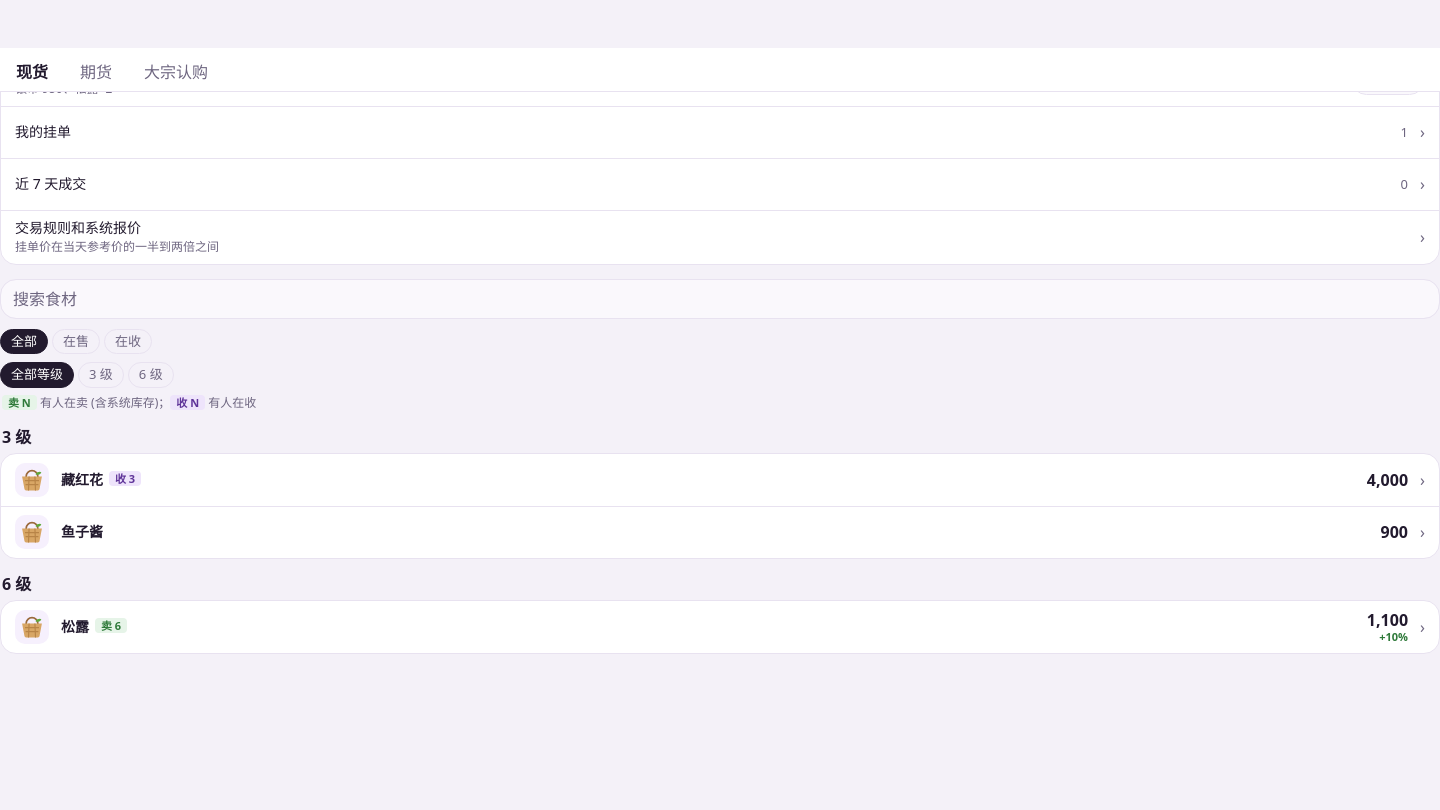
it: ExchangeView（156-1 设计 §8） › 交易所说明里写清楚系统报价怎么算（问题记录 250）
The width and height of the screenshot is (1440, 810).
// 规则一行点开面板（界面改版 P8）
Click the button with test id "ex-sys-help" at (78, 227), box [1, 210, 1439, 264]
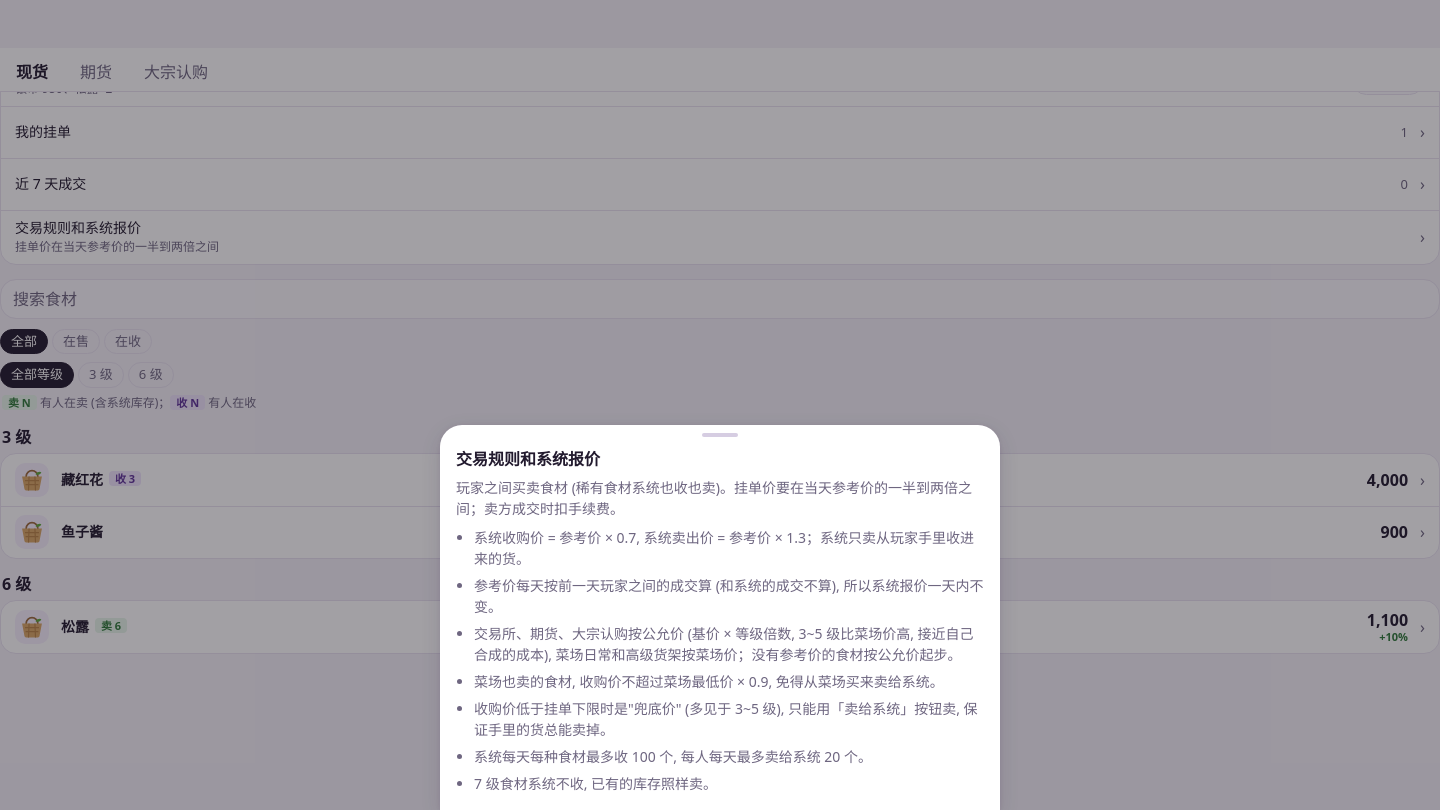
Expected: the element with test id "ex-help" shows "参考价 × 0.7", [474, 528, 974, 568]
Expected: the element with test id "ex-help" shows "一天内不变", [474, 576, 983, 616]
Expected: the element with test id "ex-help" shows "兜底", [456, 477, 984, 794]
